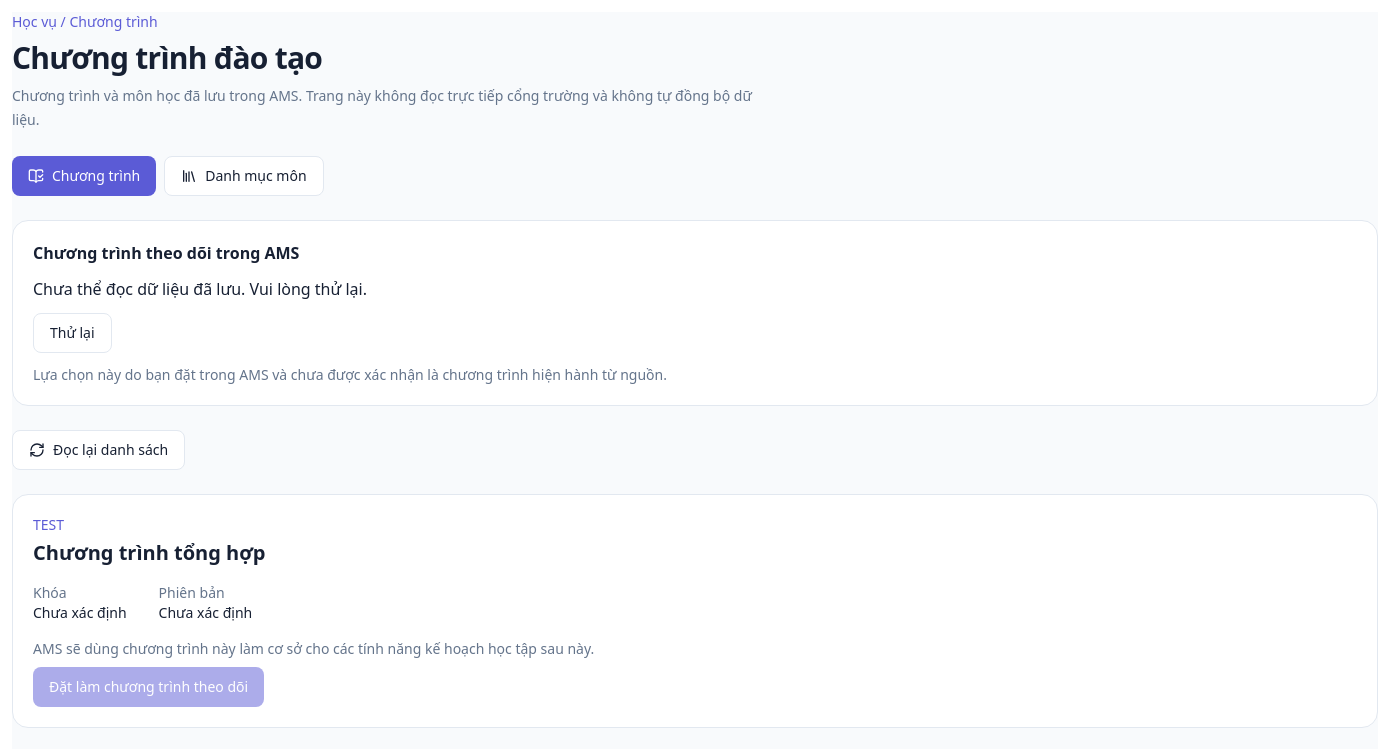
Test: Persisted curriculum browser › shows a safe error for a missing curriculum and a retry for selection reads
The image size is (1378, 749).
Expected: the text "Chưa thể đọc dữ liệu đã lưu. Vui lòng thử lại." is shown, [33, 278, 367, 300]
Click the button "Thử lại" at (72, 333), box [33, 313, 112, 353]
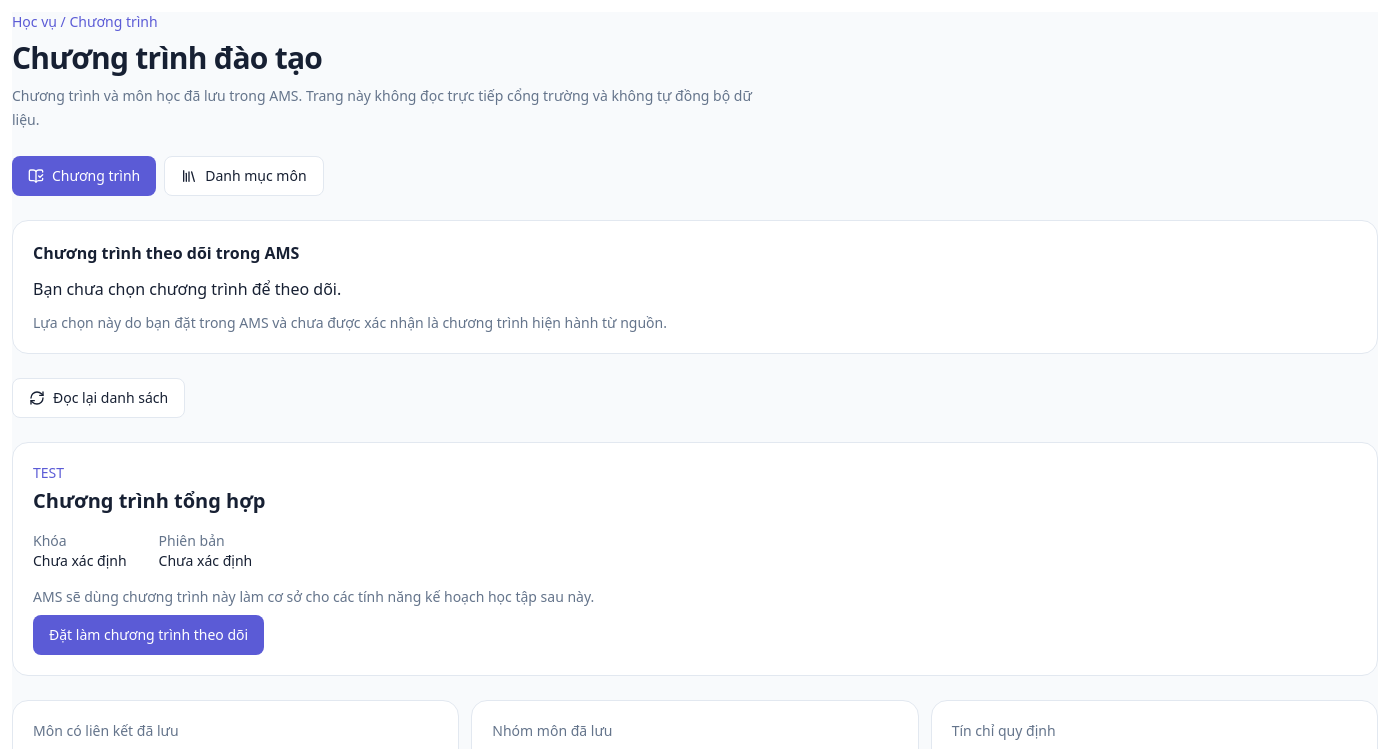
Expected: the text "Bạn chưa chọn chương trình để theo dõi." is shown, [33, 278, 341, 300]
Click the button "Đặt làm chương trình theo dõi" at (149, 635), box [33, 615, 264, 655]
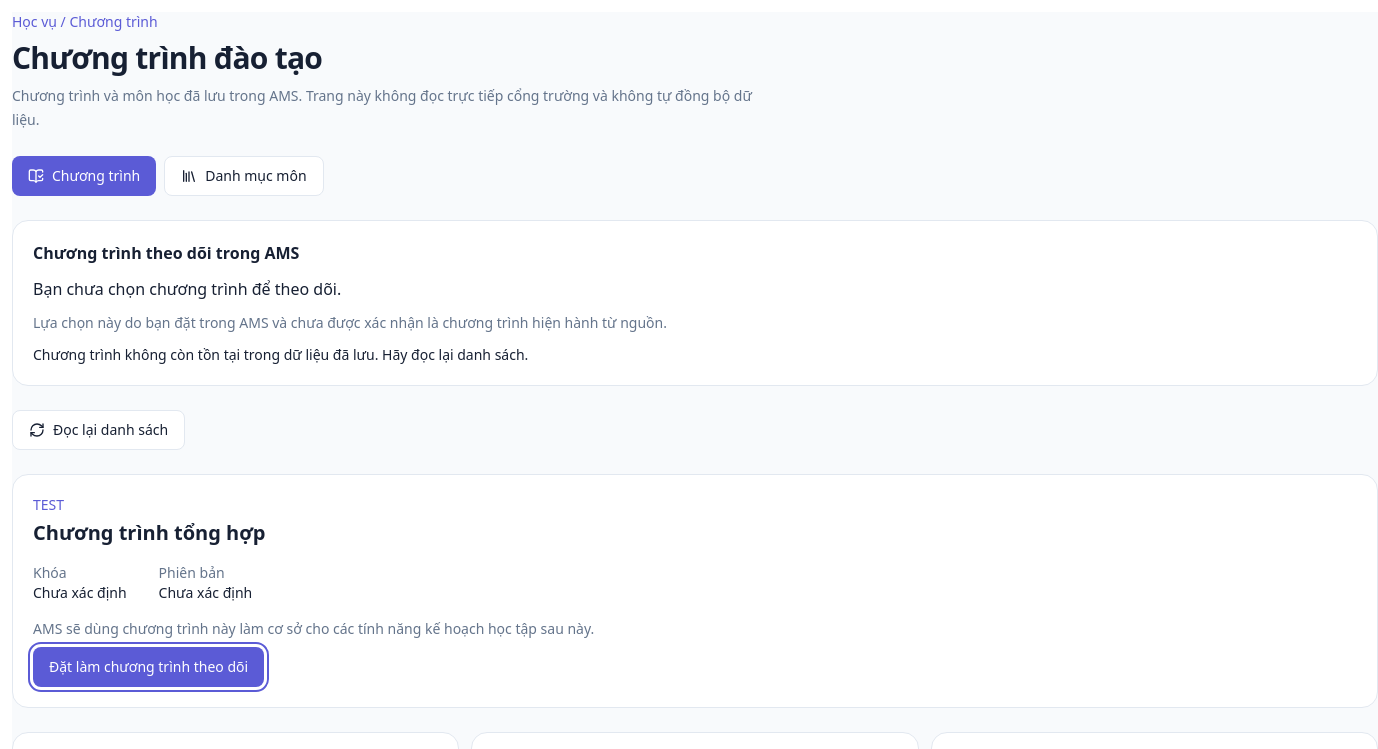
Expected: the message shows "Chương trình không còn tồn tại", [33, 345, 528, 364]
